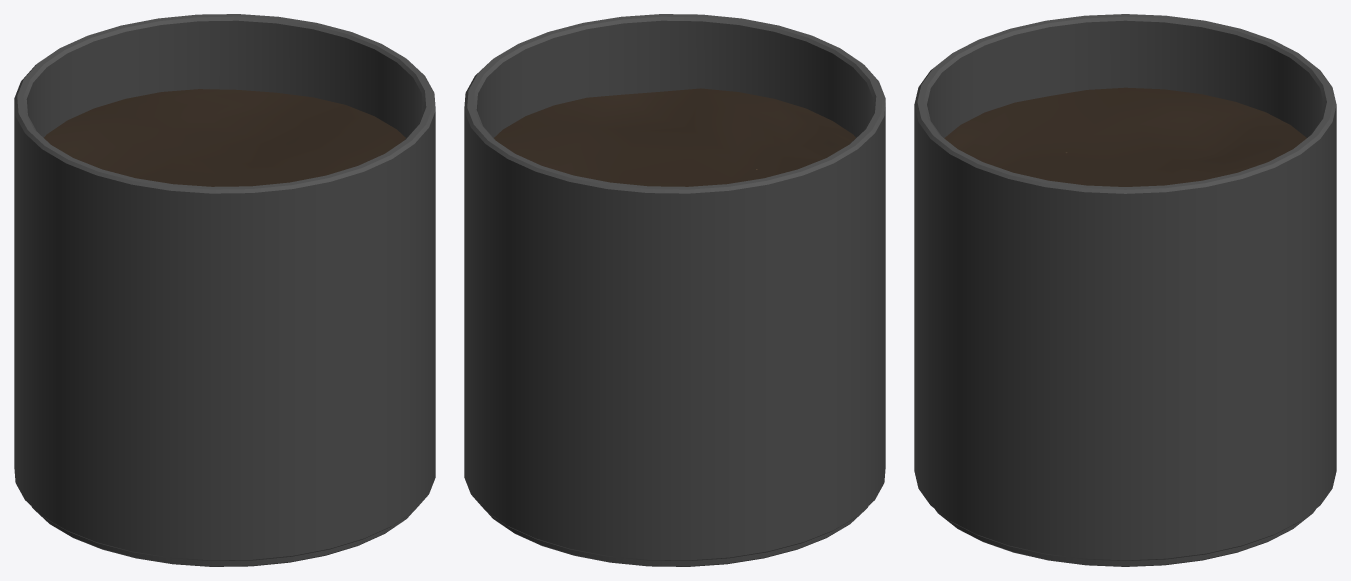
The model's file is DarkGrayPotS.glb.
The picture shows the model from 3 angles, left to right: view 1: azimuth 30°, elevation 25°; view 2: azimuth 150°, elevation 25°; view 3: azimuth 270°, elevation 25°; orthographic projection.
Parts seen in each view (by area): view 1: Dark Gray Pot S; view 2: Dark Gray Pot S; view 3: Dark Gray Pot S.
Part boxes in pixels (box(x1,y1,x2,y2)): Dark Gray Pot S: box(14, 14, 435, 566); Dark Gray Pot S: box(464, 14, 885, 566); Dark Gray Pot S: box(914, 14, 1336, 566).
Size of the model in its own units: 0.1571 by 0.1559 by 0.1571.
Materials: 1 (1 with a texture image).
